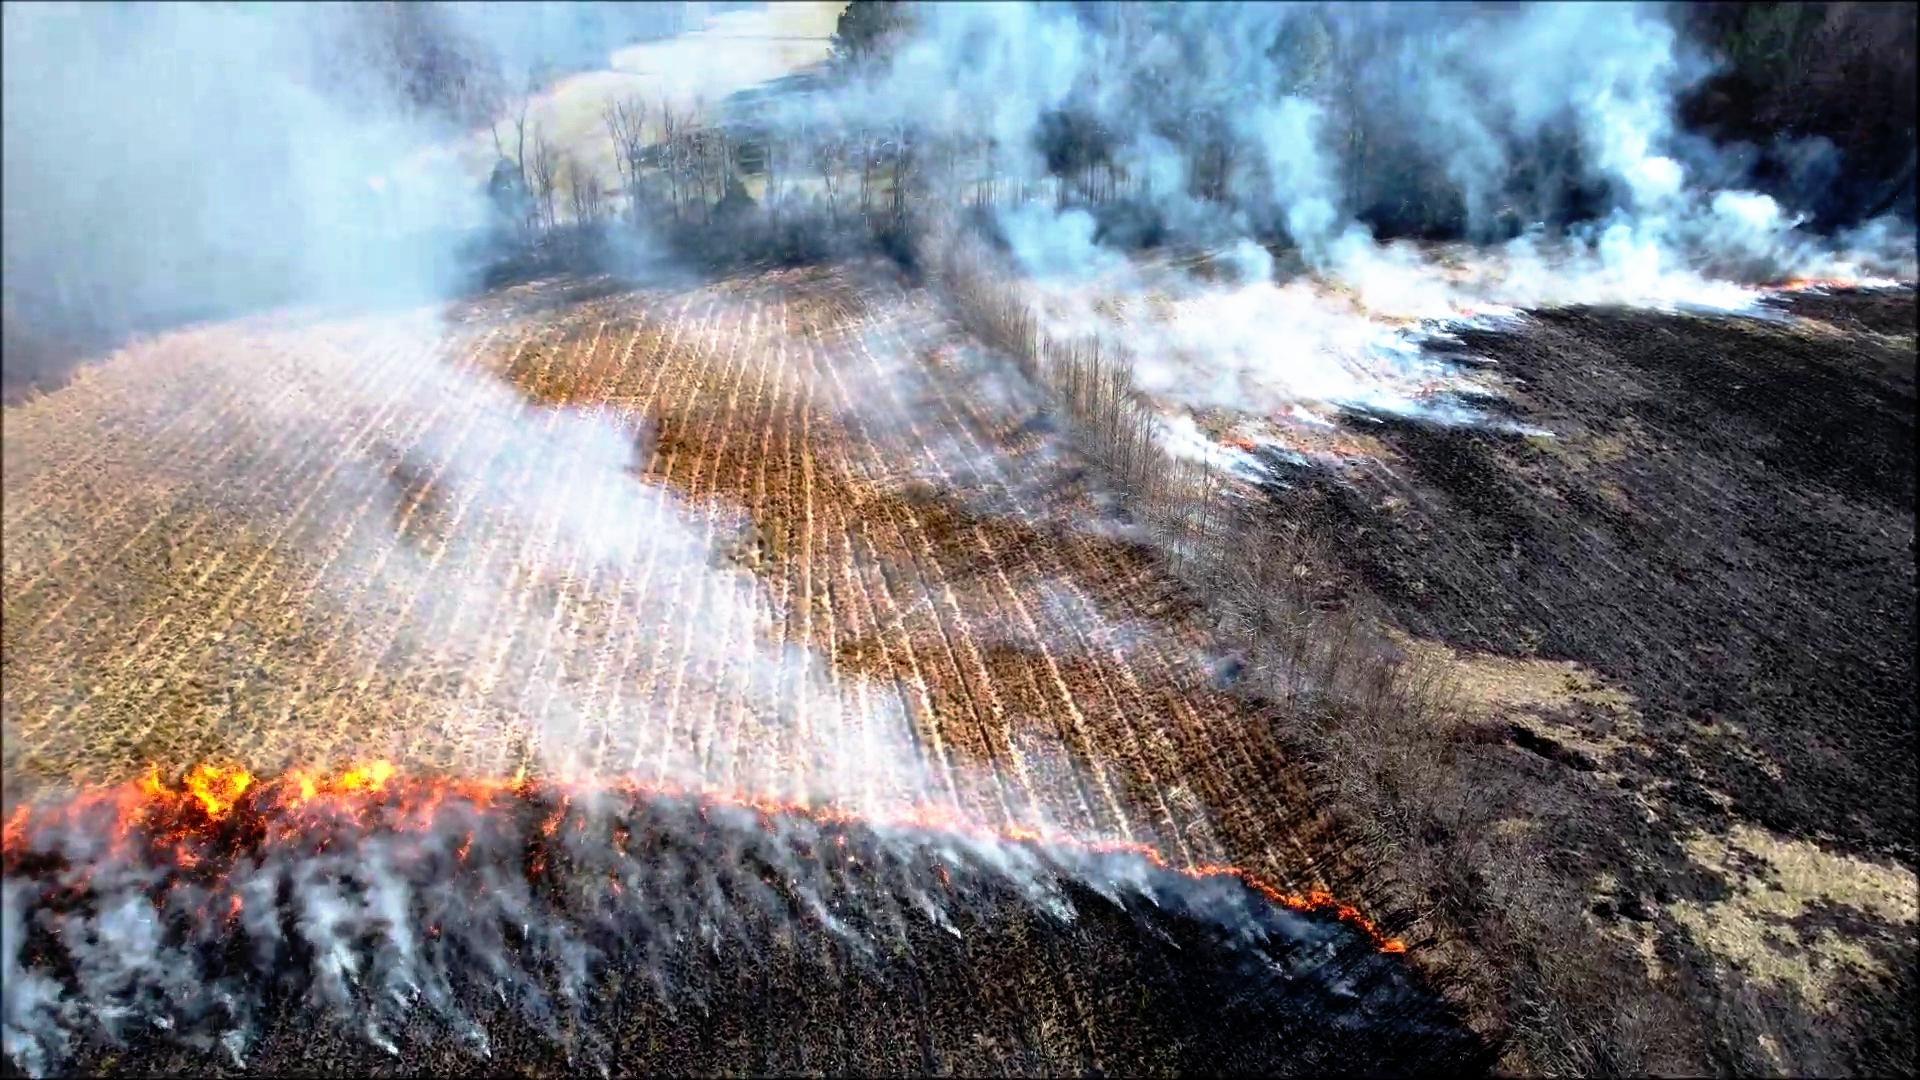smoke: (11, 5, 876, 785), (750, 0, 1185, 469), (1200, 55, 1485, 450), (1515, 15, 1850, 320), (0, 885, 225, 1080), (270, 855, 475, 1065), (175, 745, 419, 860)
